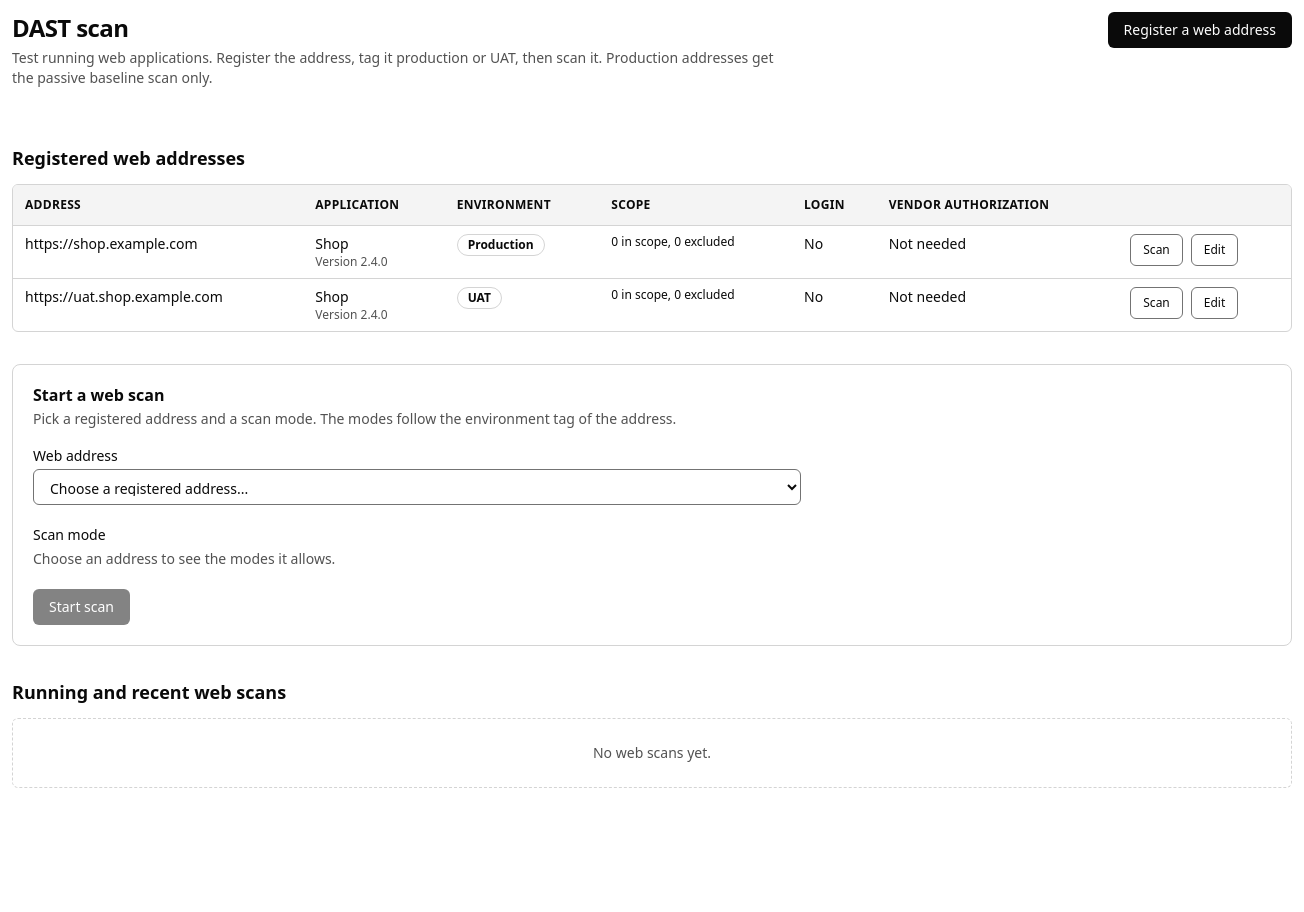
Test: DastPage scan form › offers baseline, full, API and Nuclei for a UAT address
Select "Shop - https://uat.shop.example.com (UAT)" in the dropdown labelled "Web address". click: (417, 486)
box: [33,468,801,504]
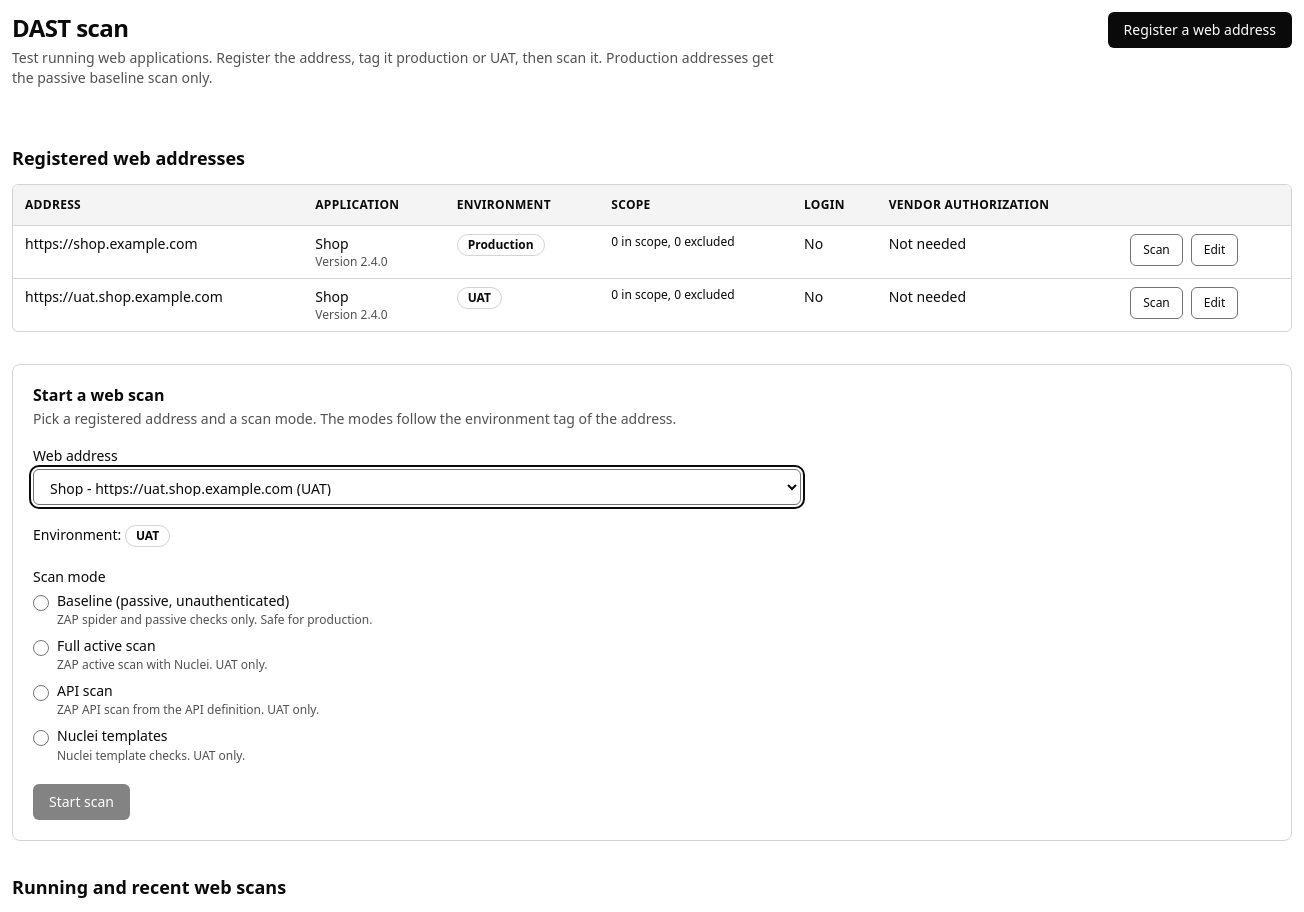
Now the radio button labelled "Baseline (passive, unauthenticated)" is enabled, box [33,594,49,610]
Now the radio button labelled "Full active scan" is enabled, box [33,640,49,656]
Now the radio button labelled "API scan" is enabled, box [33,685,49,701]
